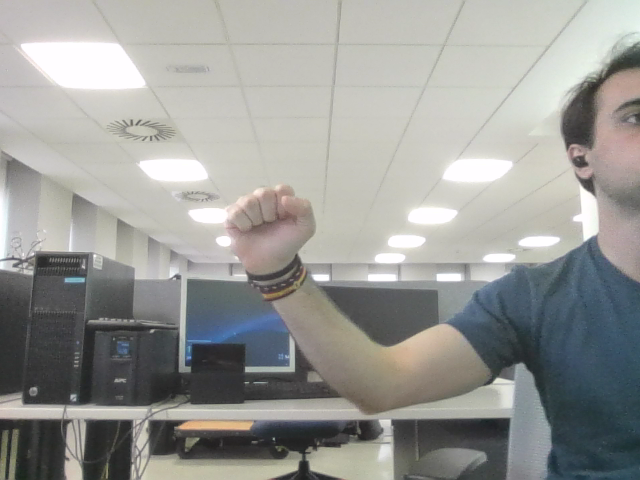Puño: (236, 191, 301, 248)
